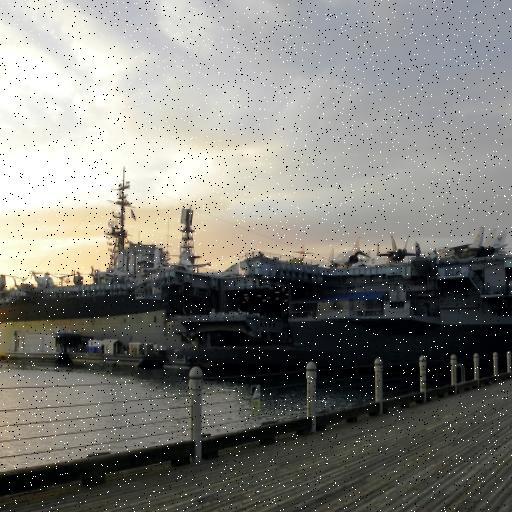Portanaves: (1, 167, 512, 372), (1, 170, 216, 360)
